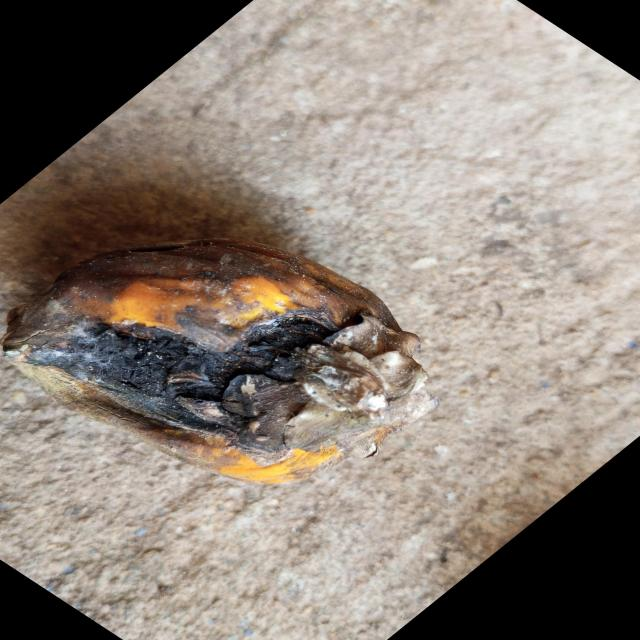damaged: (7, 202, 438, 486)
